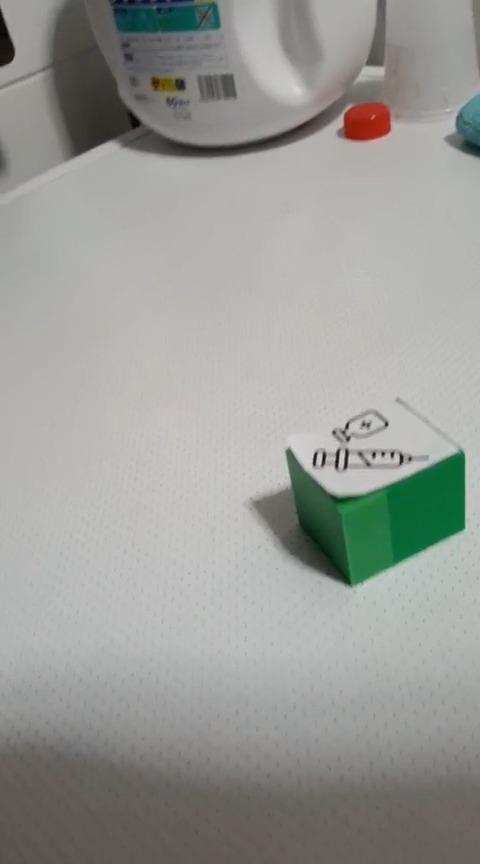antiseptic cream: (282, 394, 466, 587)
